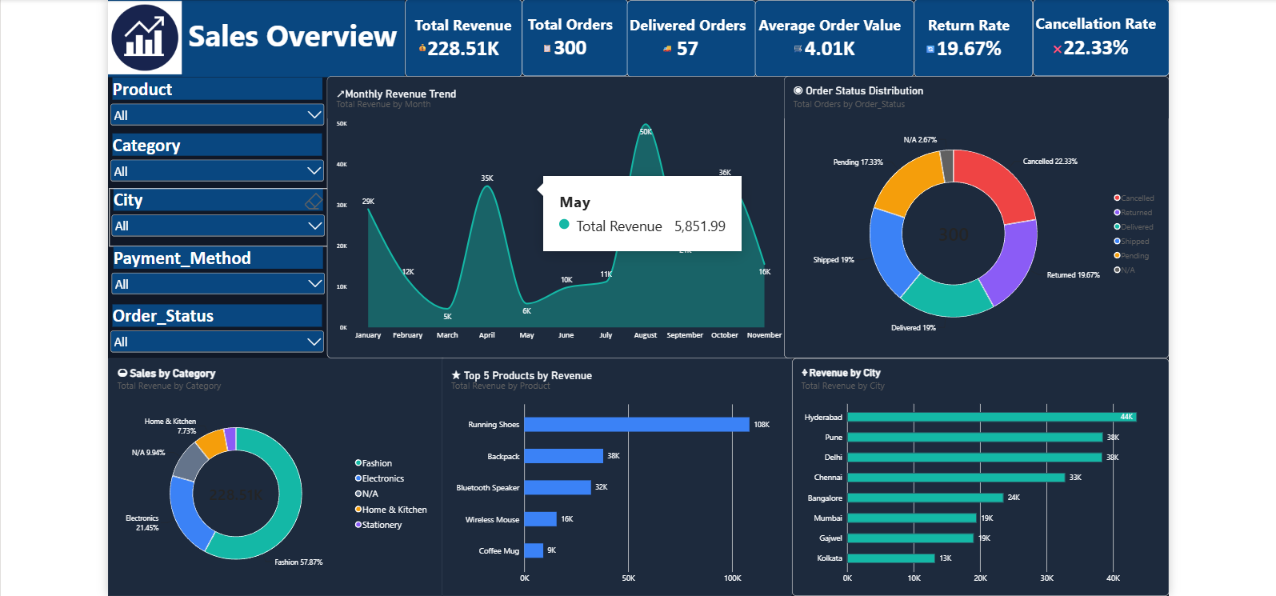

What the dashboard file says about the page in this screenshot:
{"tool":"powerbi","page":{"name":"Page 1","canvas":[1920,1080],"ordinal":0},"visuals":[{"type":"textbox","box":[0,2,537,139.4],"z":0},{"type":"image","box":[0,0,133.2,139.4],"z":1000},{"type":"slicer","fields":{"Values":["Ecommerce_cleaned_dataset.Product"]},"box":[0,141.2,396.3,101.3],"z":2000},{"type":"slicer","fields":{"Values":["Ecommerce_cleaned_dataset.City"]},"box":[1.8,342,395.6,104.5],"z":3000},{"type":"slicer","fields":{"Values":["Ecommerce_cleaned_dataset.Category"]},"box":[0,242.5,395.6,90.2],"z":4000},{"type":"slicer","fields":{"Values":["Ecommerce_cleaned_dataset.Payment_Method"]},"box":[1.8,447,395.6,98.4],"z":5000},{"type":"slicer","fields":{"Values":["Ecommerce_cleaned_dataset.Order_Status"]},"box":[0,551.9,395.6,98.4],"z":6000},{"type":"cardVisual","fields":{"Data":["Ecommerce_cleaned_dataset.Total Revenue"]},"box":[537.5,0,211.7,141.2],"z":7000},{"type":"cardVisual","fields":{"Data":["Ecommerce_cleaned_dataset.Total Orders"]},"box":[749.2,0,191.8,139.3],"z":8000},{"type":"cardVisual","fields":{"Data":["Ecommerce_cleaned_dataset.Delivered Orders"]},"box":[938.6,2.1,233.6,139.4],"z":9000},{"type":"cardVisual","fields":{"Data":["Ecommerce_cleaned_dataset.Average Order Value"]},"box":[1170.9,1.8,287.7,139.3],"z":10000},{"type":"cardVisual","fields":{"Data":["Ecommerce_cleaned_dataset.Return Rate"]},"box":[1458.6,0,215.3,141.2],"z":11000},{"type":"cardVisual","fields":{"Data":["Ecommerce_cleaned_dataset.Cancellation Rate"]},"box":[1673.9,0,246.1,139.3],"z":12000},{"type":"areaChart","title":"↗Monthly Revenue Trend","fields":{"Category":["Ecommerce_cleaned_dataset.Order_Date.Variation.Date Hierarchy.Month"],"Y":["Ecommerce_cleaned_dataset.Total Revenue"]},"box":[396.3,139.3,841.5,510.3],"z":13000},{"type":"donutChart","title":"◒ Sales by Category","fields":{"Category":["Ecommerce_cleaned_dataset.Category"],"Y":["Ecommerce_cleaned_dataset.Total Revenue"]},"box":[0,649.7,604.4,430.7],"z":14000},{"type":"clusteredBarChart","title":"★ Top 5 Products by Revenue","fields":{"Category":["Ecommerce_cleaned_dataset.Product"],"Y":["Ecommerce_cleaned_dataset.Total Revenue"]},"box":[604.4,649.7,633.4,430.7],"z":15000},{"type":"donutChart","title":"◉ Order Status Distribution","fields":{"Category":["Ecommerce_cleaned_dataset.Order_Status"],"Y":["Ecommerce_cleaned_dataset.Total Orders"]},"box":[1223.3,139.3,696.7,510.3],"z":17000},{"type":"clusteredBarChart","title":"⌖ Revenue by City","fields":{"Category":["Ecommerce_cleaned_dataset.City"],"Y":["Ecommerce_cleaned_dataset.Total Revenue"]},"box":[1237.8,649.7,682.2,430.7],"z":18000},{"type":"textbox","box":[553.7,32.9,30.9,107],"z":19000},{"type":"textbox","box":[778,16.5,32.9,109.1],"z":20000},{"type":"textbox","box":[959.2,47.3,107,59.7],"z":21000},{"type":"textbox","box":[1195.9,16.5,105,123.5],"z":22000},{"type":"textbox","box":[1458.6,32.6,59.7,108.6],"z":23000},{"type":"textbox","box":[1690.2,32.6,56.1,123.1],"z":24000}]}

Visuals, with their boxes on the page's 1920x1080 design canvas (x1, y1, x2, y2). These are canvas units, not pixel positions in the 1276x596 screenshot, which may show the page scaled, cropped or inside an application window:
textbox: (0, 2, 537, 141)
image: (0, 0, 133, 139)
slicer - Ecommerce_cleaned_dataset.Product: (0, 141, 396, 242)
slicer - Ecommerce_cleaned_dataset.City: (2, 342, 397, 446)
slicer - Ecommerce_cleaned_dataset.Category: (0, 242, 396, 333)
slicer - Ecommerce_cleaned_dataset.Payment_Method: (2, 447, 397, 545)
slicer - Ecommerce_cleaned_dataset.Order_Status: (0, 552, 396, 650)
cardVisual - Ecommerce_cleaned_dataset.Total Revenue: (538, 0, 749, 141)
cardVisual - Ecommerce_cleaned_dataset.Total Orders: (749, 0, 941, 139)
cardVisual - Ecommerce_cleaned_dataset.Delivered Orders: (939, 2, 1172, 142)
cardVisual - Ecommerce_cleaned_dataset.Average Order Value: (1171, 2, 1459, 141)
cardVisual - Ecommerce_cleaned_dataset.Return Rate: (1459, 0, 1674, 141)
cardVisual - Ecommerce_cleaned_dataset.Cancellation Rate: (1674, 0, 1920, 139)
"↗Monthly Revenue Trend" areaChart: (396, 139, 1238, 650)
"◒ Sales by Category" donutChart: (0, 650, 604, 1080)
"★ Top 5 Products by Revenue" clusteredBarChart: (604, 650, 1238, 1080)
"◉ Order Status Distribution" donutChart: (1223, 139, 1920, 650)
"⌖ Revenue by City" clusteredBarChart: (1238, 650, 1920, 1080)
textbox: (554, 33, 585, 140)
textbox: (778, 16, 811, 126)
textbox: (959, 47, 1066, 107)
textbox: (1196, 16, 1301, 140)
textbox: (1459, 33, 1518, 141)
textbox: (1690, 33, 1746, 156)
